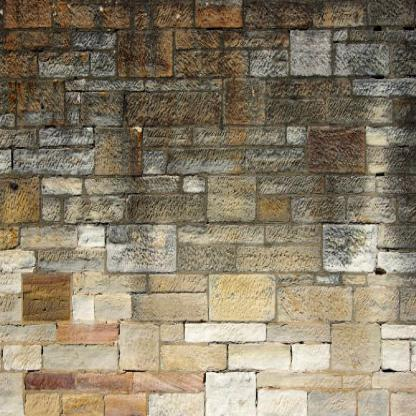Sedimentary_Sandstone: (98, 219, 187, 276), (205, 269, 278, 329), (318, 218, 382, 281), (328, 311, 388, 374), (205, 167, 262, 228), (199, 362, 264, 415), (115, 317, 166, 371), (225, 339, 298, 374)
